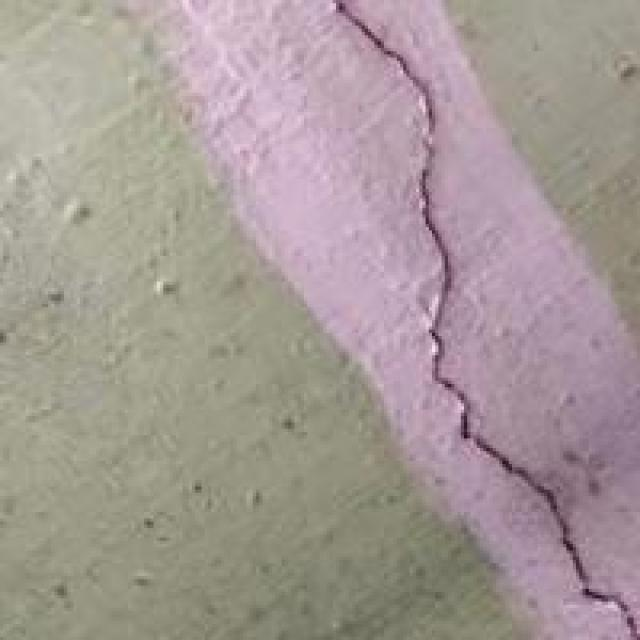crack: (310, 3, 637, 618)
